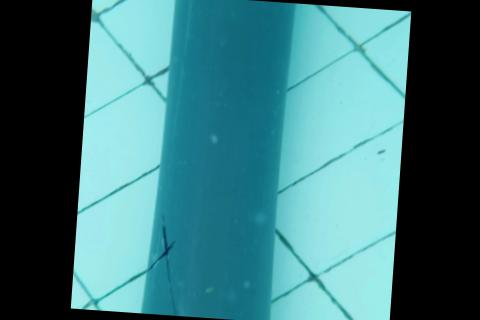keretakan: (146, 220, 185, 316)
